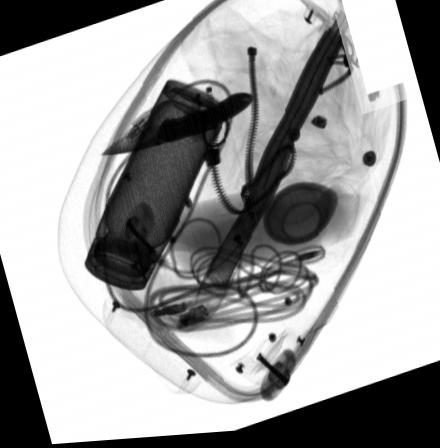Knife: (101, 94, 253, 157)
